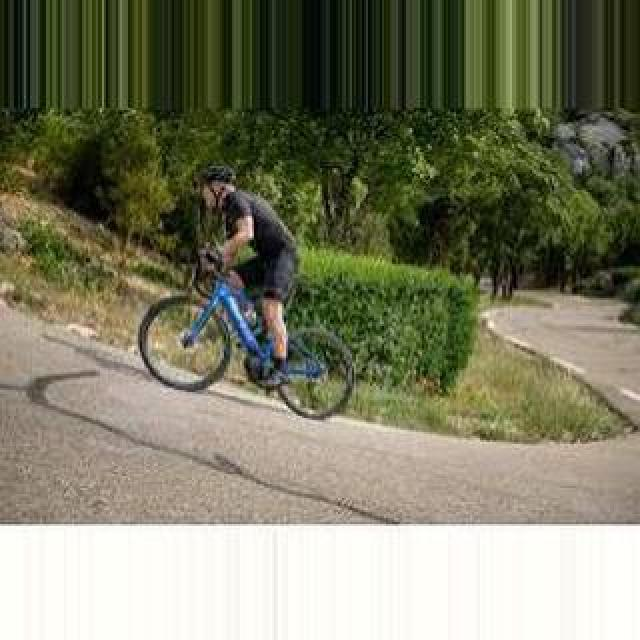MC-Bike: (192, 164, 300, 390)
Person: (140, 250, 356, 420)
